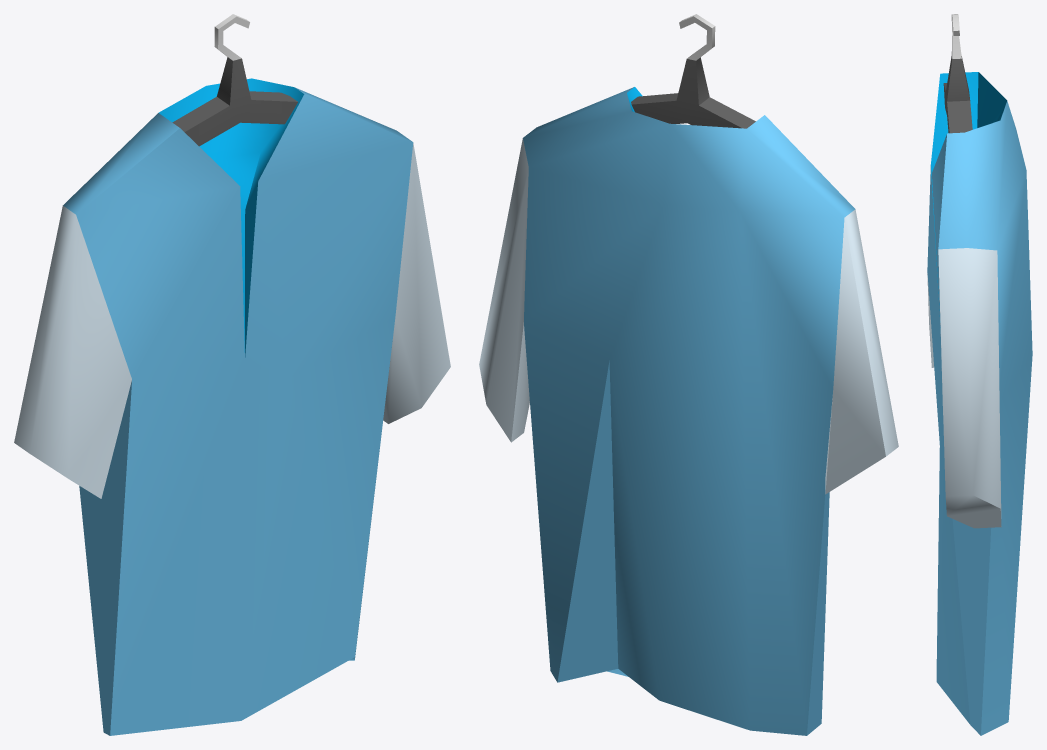
File: clothes_003.glb
3 views of the same model, side by side, from view 1: azimuth 30°, elevation 25°; view 2: azimuth 150°, elevation 25°; view 3: azimuth 270°, elevation 25° (orthographic). The views are drawn at different scales.
Parts seen in each view (by area): view 1: clothes_003; view 2: clothes_003; view 3: clothes_003.
Boxes of the visible parts, x1,y1,x2,y2 form: clothes_003: (14, 14, 450, 735); clothes_003: (479, 14, 898, 735); clothes_003: (927, 14, 1032, 735).
Bounding box in the file's own units: 0.5803 × 0.9287 × 0.1321.
1 material, 1 textured.
